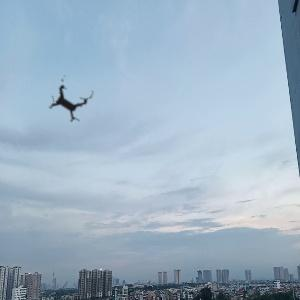drone: (29, 61, 111, 143)
